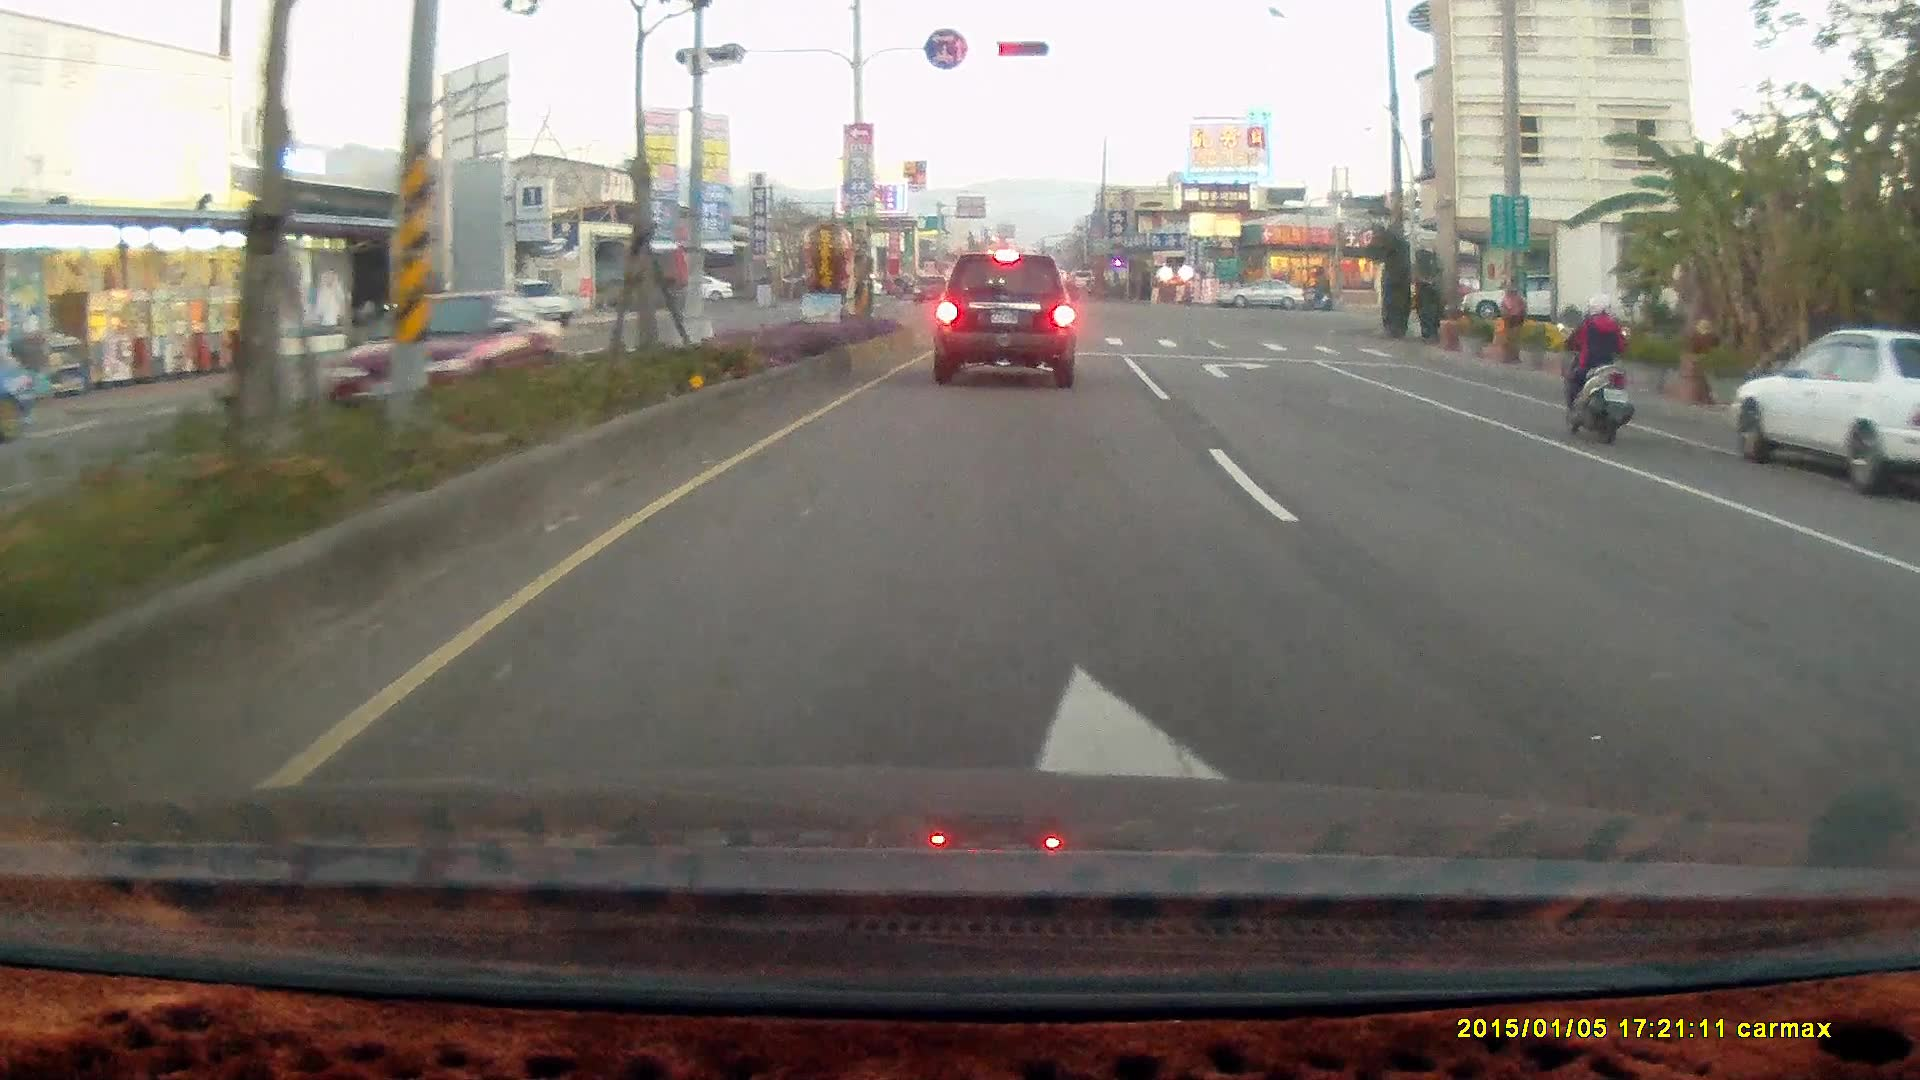rider: (1552, 292, 1634, 447), (1302, 276, 1331, 312)
vehicle: (1726, 324, 1920, 498), (1727, 330, 1920, 499), (932, 248, 1080, 387), (1896, 493, 1920, 836), (1458, 270, 1581, 325), (1883, 528, 1920, 690), (1211, 279, 1307, 316), (504, 278, 574, 327), (1210, 275, 1302, 310)
